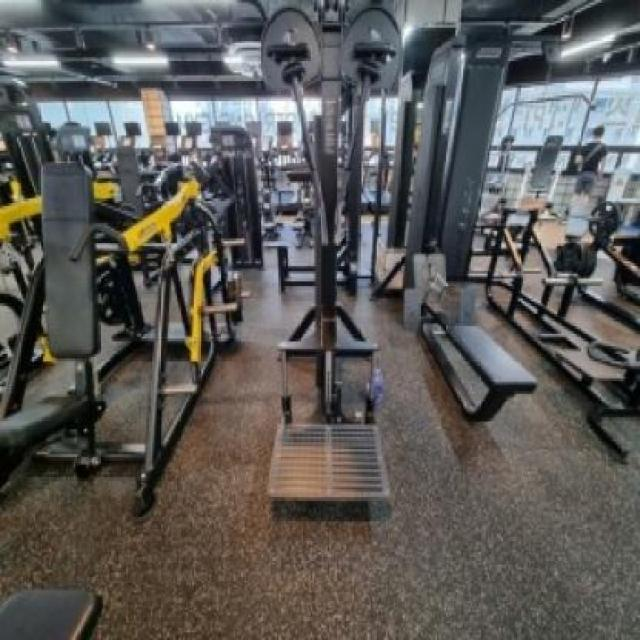lateral raises machine: (260, 3, 405, 503)
seated dip machine: (1, 163, 248, 519)
